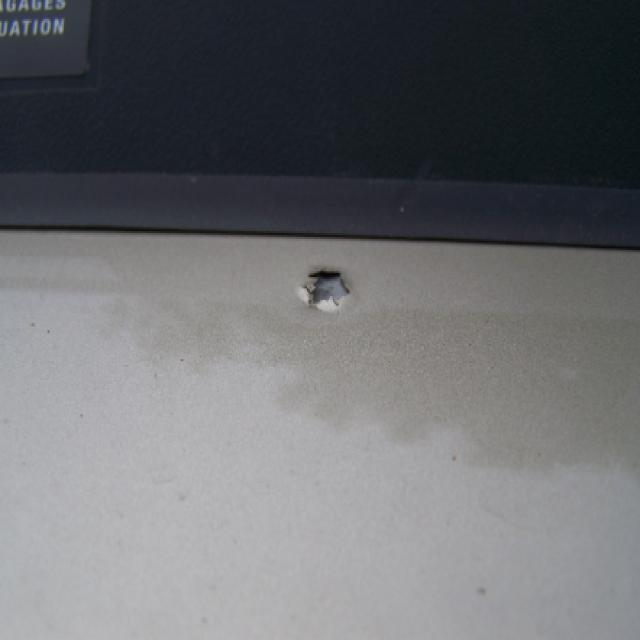dents: (284, 238, 374, 343)
